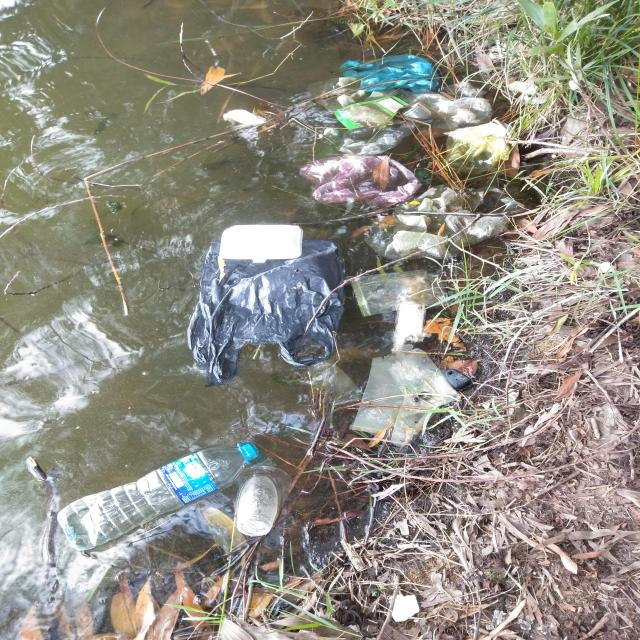litter: (161, 28, 548, 466), (40, 427, 271, 571)
